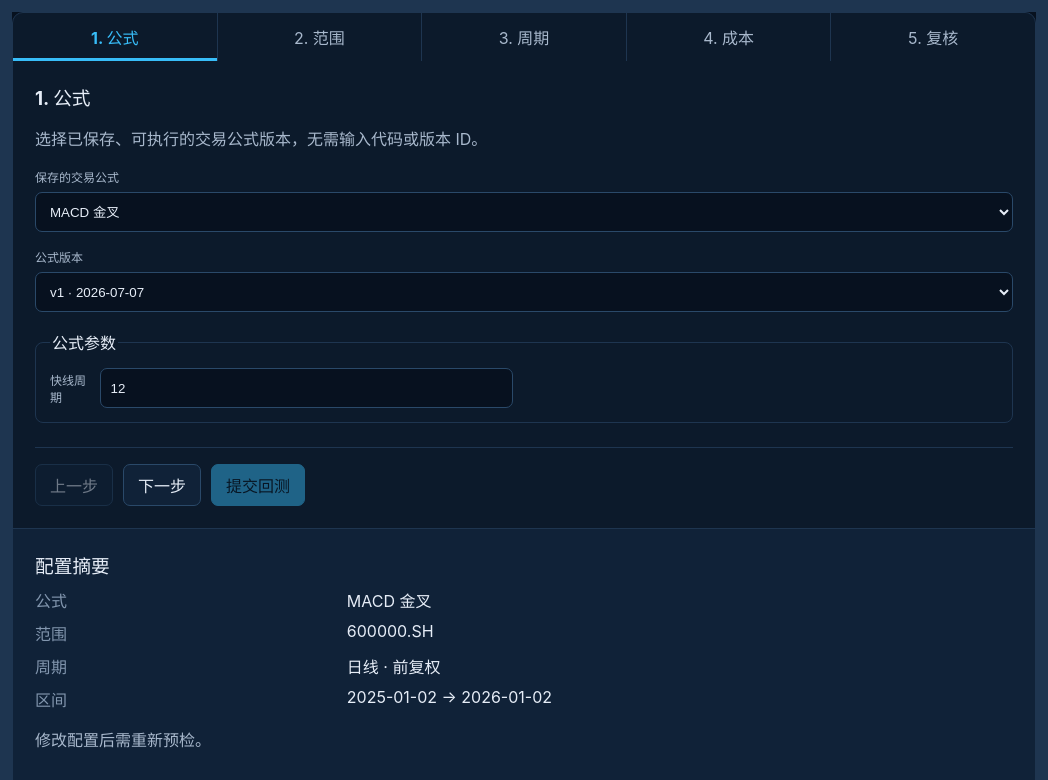
Scenario: shows next-open and independent-pool semantics before submit
Click the button "5. 复核" at (933, 37), box [831,13,1035,61]
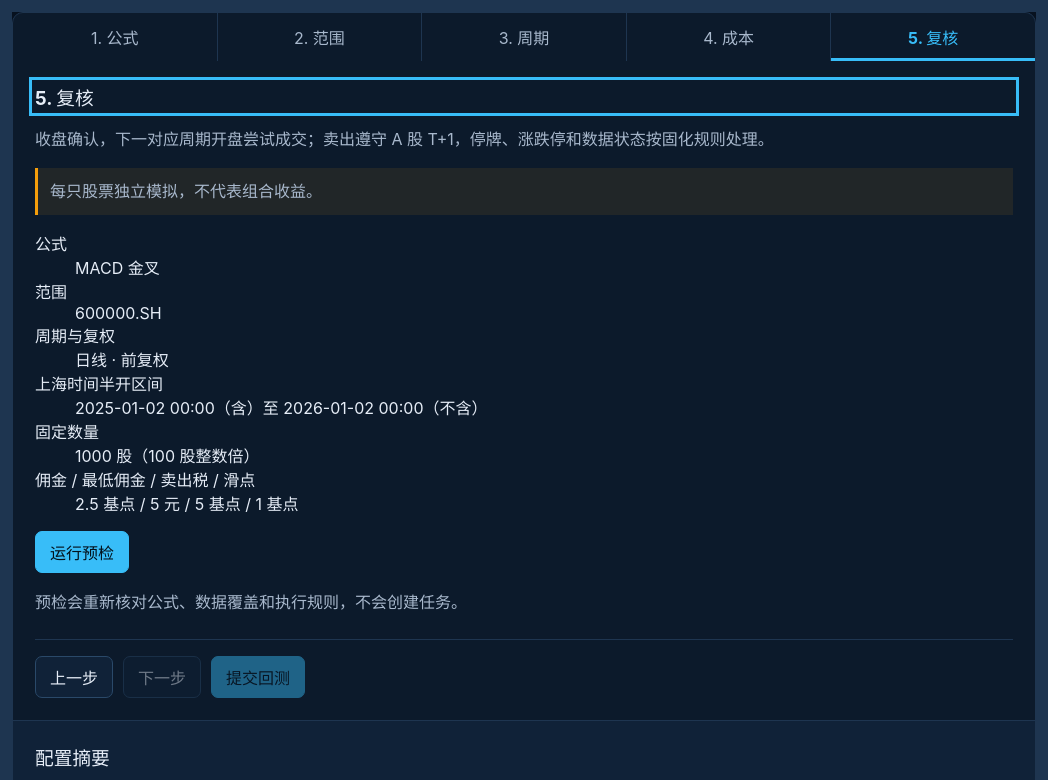
Expected: the text "收盘确认，下一对应周期开盘尝试成交；卖出遵守 A 股 T+1，停牌、涨跌停和数据状态按固化规则处理。" is shown, [35,129,774,149]
Expected: the text "每只股票独立模拟，不代表组合收益。" is shown, [35,168,1013,215]
